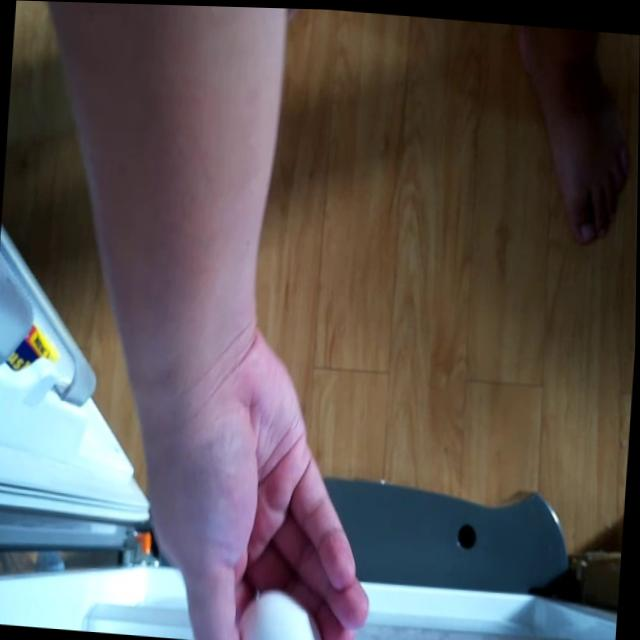egg: (234, 590, 328, 640)
